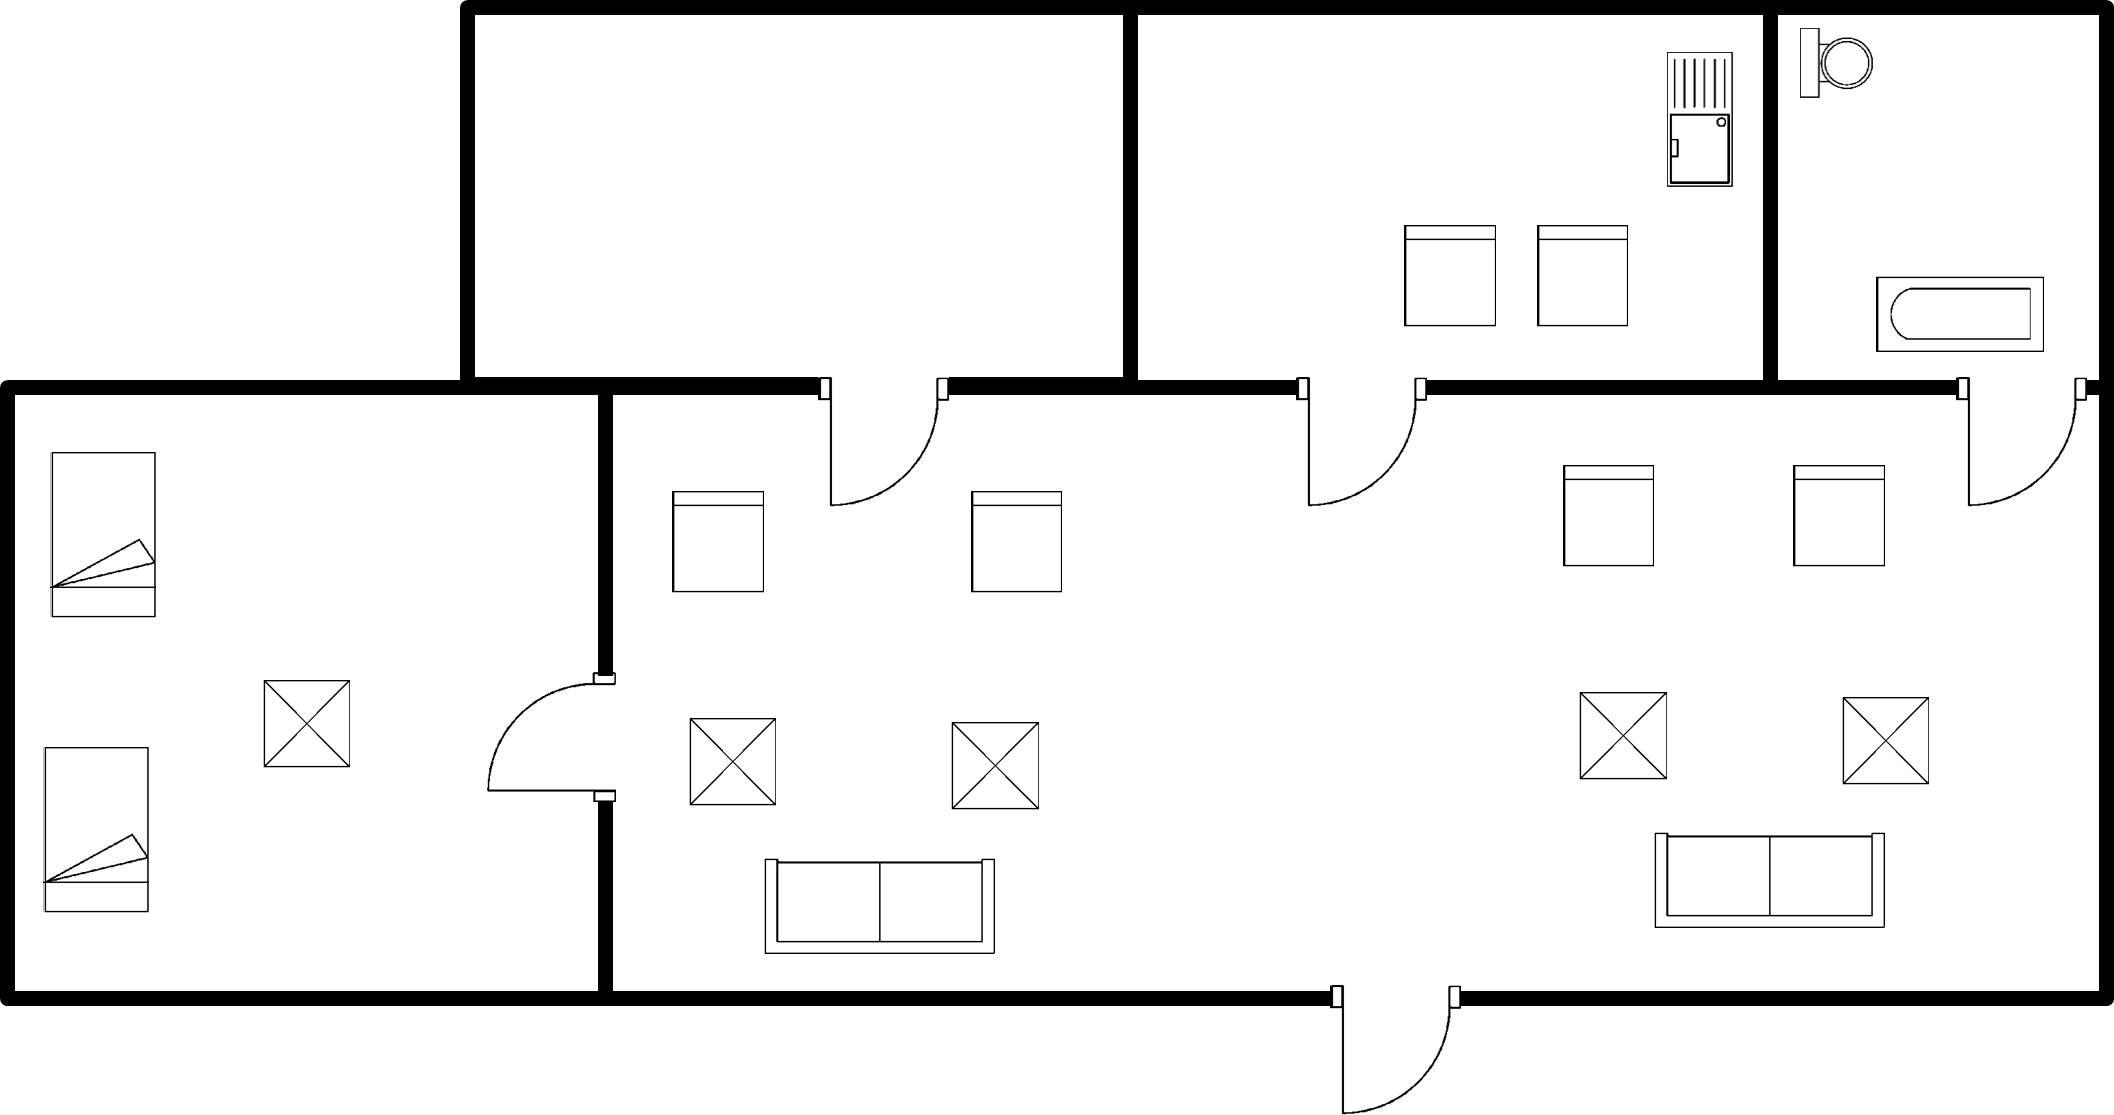bed: (36, 440, 168, 630), (33, 733, 157, 927)
coffee_table: (1825, 684, 1947, 798), (678, 707, 791, 822), (247, 669, 360, 780), (941, 713, 1048, 820), (1572, 683, 1675, 787)
large_sink: (1789, 20, 1881, 117)
large_sofa: (1645, 819, 1900, 942), (751, 846, 1007, 961)
sink: (1657, 42, 1741, 196)
small_sofa: (1524, 208, 1641, 340), (1547, 454, 1665, 584), (1778, 454, 1898, 580), (1392, 211, 1509, 339), (963, 481, 1078, 610), (659, 483, 777, 605)
tub: (1863, 263, 2056, 366)
